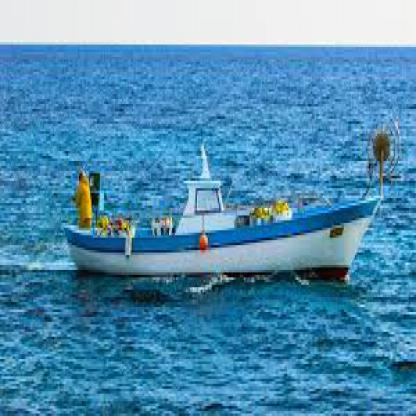fish-b: (50, 104, 405, 300)
